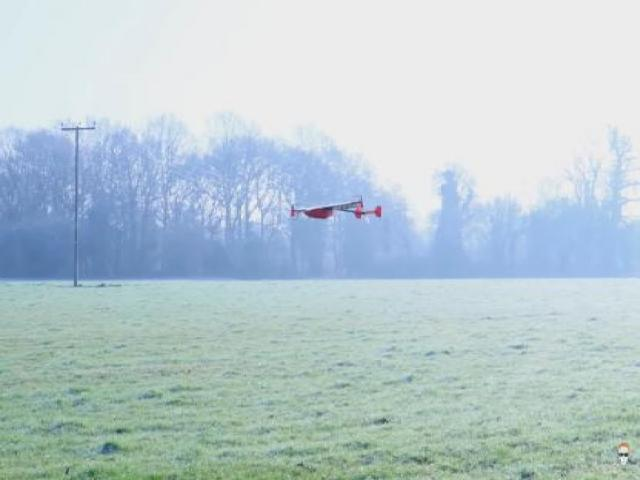uav: (285, 192, 384, 225)
